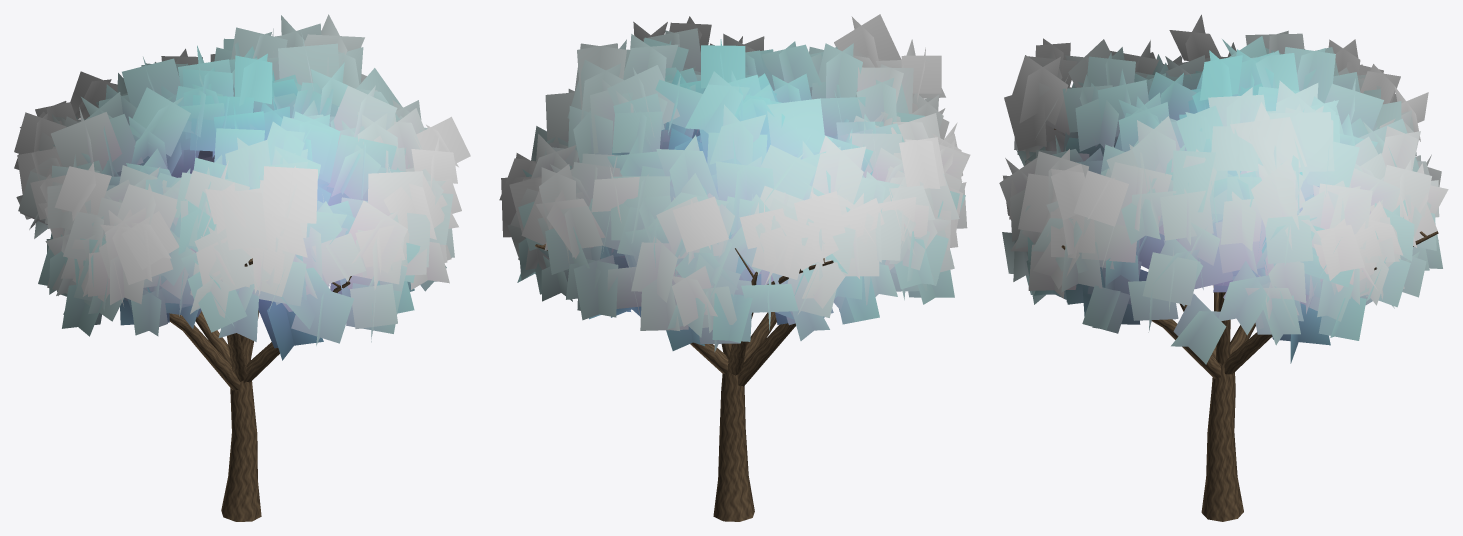
Rendered from TR_Cinar.fbx.
3 renders of one model, left to right at view 1: azimuth 30°, elevation 25°; view 2: azimuth 150°, elevation 25°; view 3: azimuth 270°, elevation 25°, orthographic. The views are drawn at different scales.
Visible parts, largest first — view 1: TR_Cinar_Canopy_LOD0, TR_Cinar_Bark_LOD0; view 2: TR_Cinar_Canopy_LOD0, TR_Cinar_Bark_LOD0; view 3: TR_Cinar_Canopy_LOD0, TR_Cinar_Bark_LOD0.
Part boxes in pixels (left/top/right/bottom): TR_Cinar_Canopy_LOD0: left=14, top=14, right=470, bottom=360; TR_Cinar_Bark_LOD0: left=169, top=258, right=351, bottom=521; TR_Cinar_Canopy_LOD0: left=499, top=14, right=970, bottom=352; TR_Cinar_Bark_LOD0: left=535, top=244, right=833, bottom=521; TR_Cinar_Canopy_LOD0: left=999, top=14, right=1448, bottom=364; TR_Cinar_Bark_LOD0: left=1054, top=128, right=1438, bottom=521.
Size of what is drawn, in the model's own units: 9.74 by 11 by 9.7.
